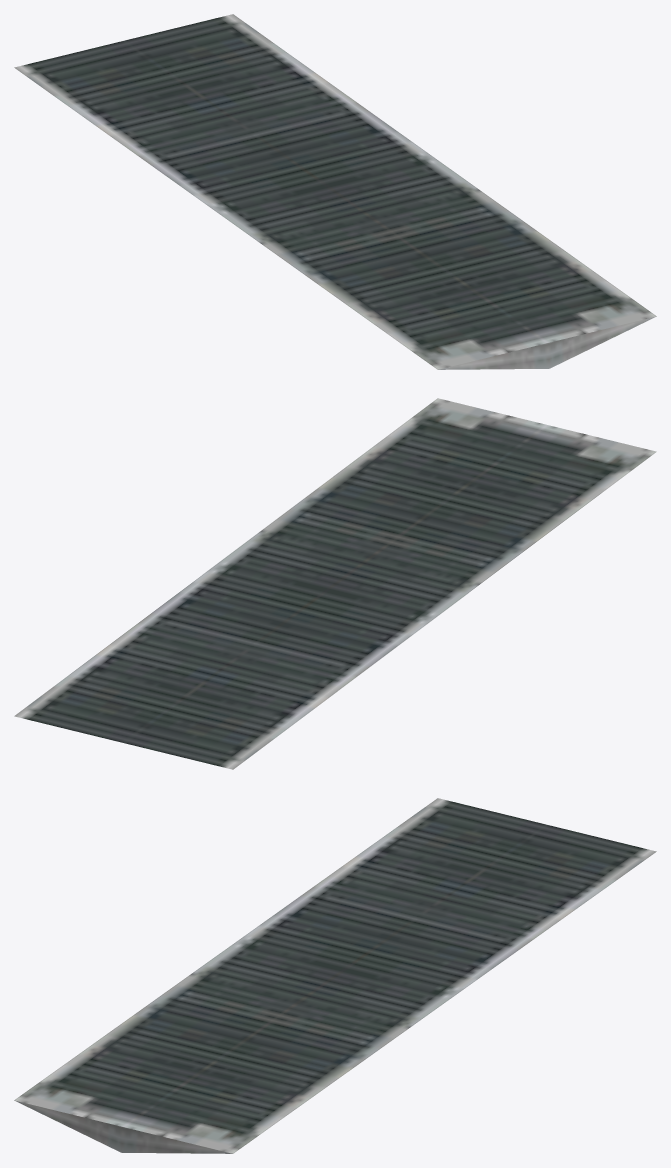
File: lambda_ramp_l2.fbx
3 views of the same model, one above another, from view 1: azimuth 30°, elevation 25°; view 2: azimuth 150°, elevation 25°; view 3: azimuth 330°, elevation 25° (orthographic).
Parts seen in each view (by area): view 1: mesh_node; view 2: mesh_node; view 3: mesh_node.
Boxes of the visible parts, bbox=[...] form: mesh_node: bbox=[14, 14, 656, 369]; mesh_node: bbox=[14, 398, 656, 769]; mesh_node: bbox=[14, 798, 656, 1153].
Size of the model in its own units: 1.83 by 0.1916 by 6.15.
